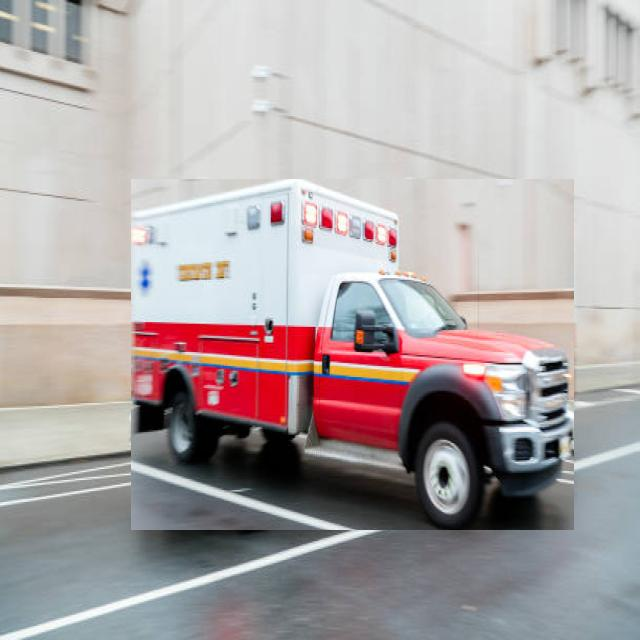emergency: (131, 180, 574, 530)
